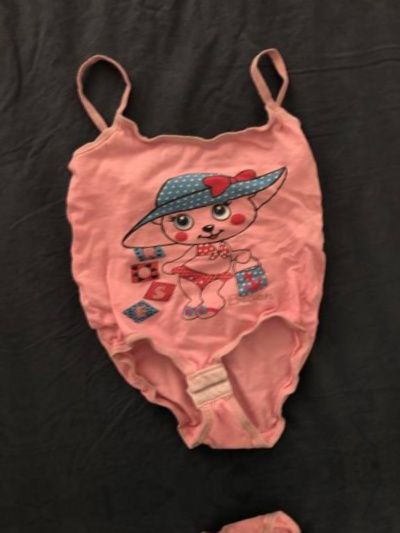Body: (31, 0, 392, 474), (101, 494, 400, 533)
